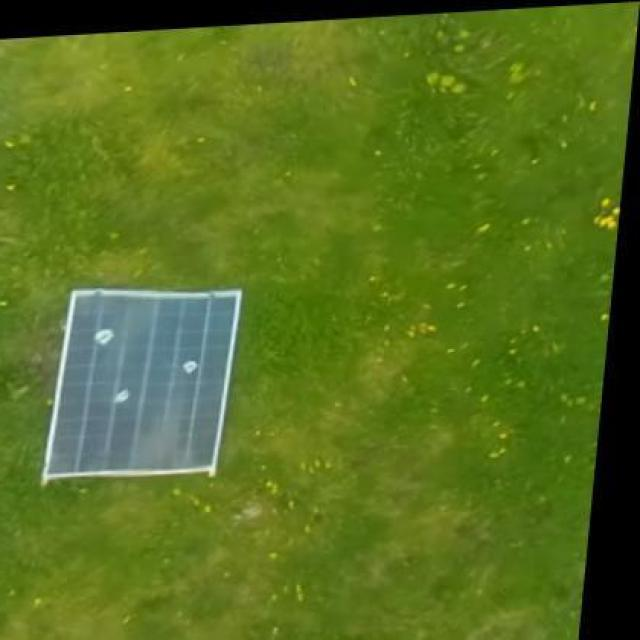soiled: (41, 285, 242, 483)
